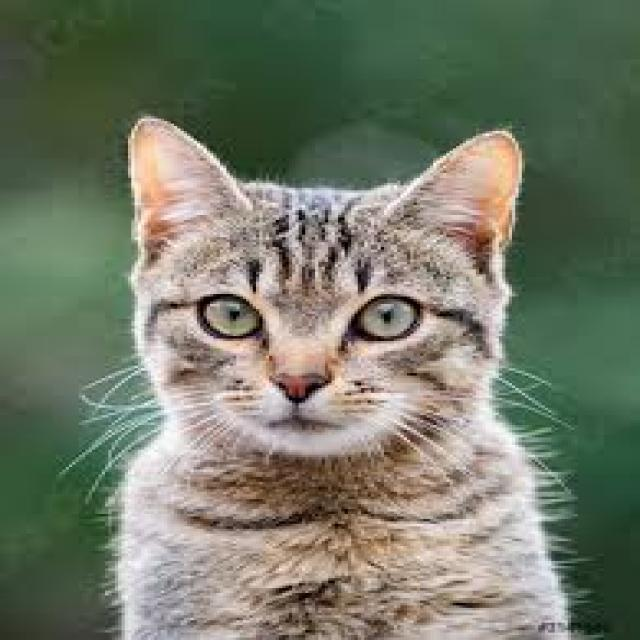Cat: (69, 108, 594, 640)
